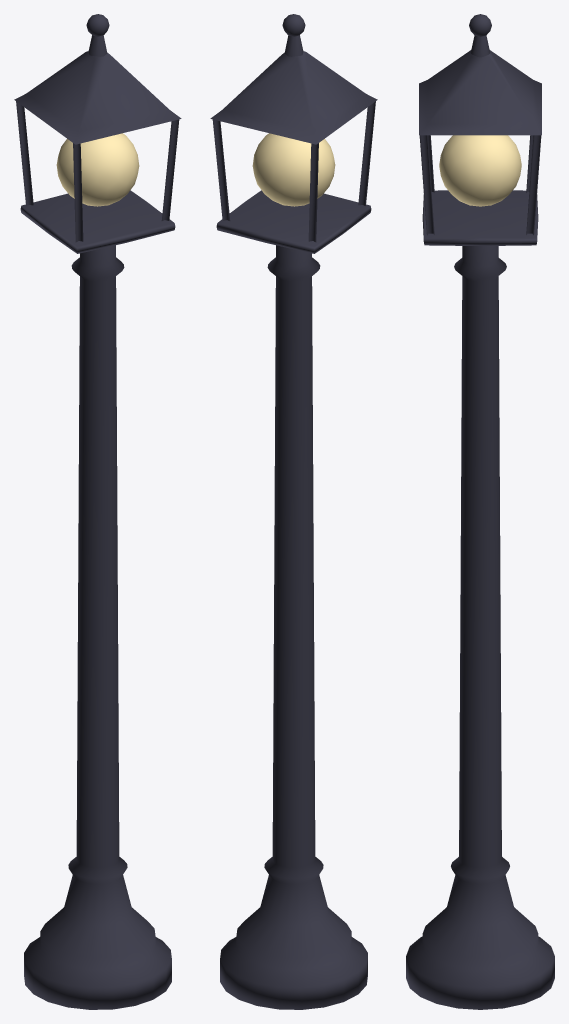
The model's file is LampPost.obj.
The picture shows the model from 3 angles, left to right: view 1: azimuth 30°, elevation 25°; view 2: azimuth 150°, elevation 25°; view 3: azimuth 270°, elevation 25°; orthographic projection.
Parts seen in each view (by area): view 1: Pole, Lamp; view 2: Pole, Lamp; view 3: Pole, Lamp.
Boxes of the visible parts, x1,y1,x2,y2 form: Pole: [14, 14, 181, 1009]; Lamp: [56, 133, 139, 206]; Pole: [210, 14, 377, 1009]; Lamp: [252, 133, 335, 206]; Pole: [406, 14, 554, 1009]; Lamp: [439, 135, 521, 206].
Size of the model in its own units: 1.8 by 12.86 by 1.8.
